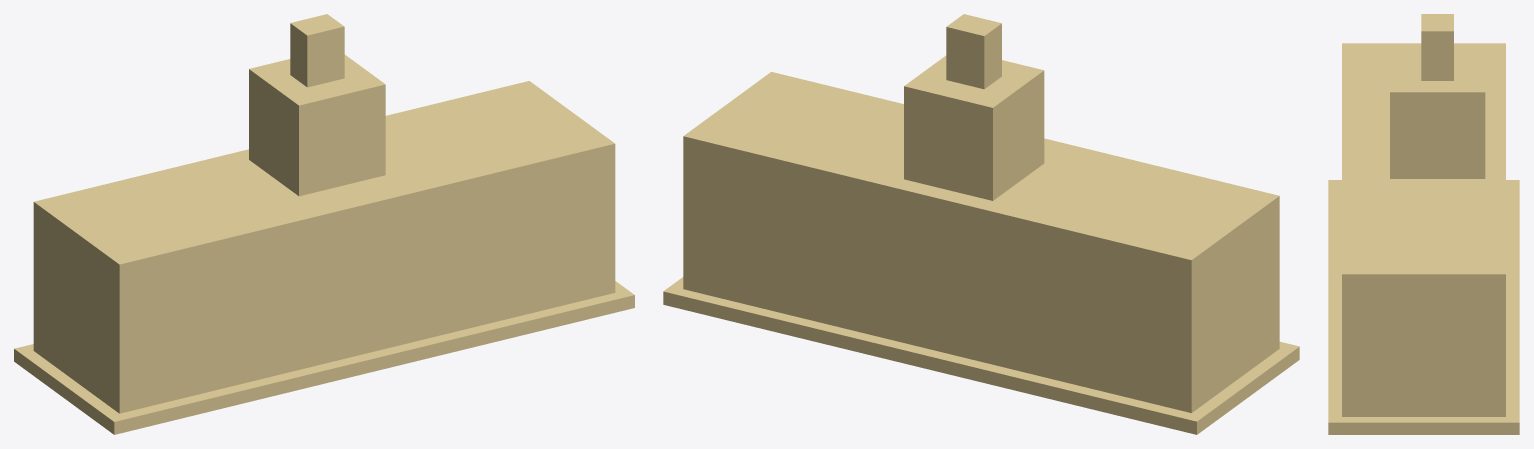
The model's file is sphinx.glb.
3 views of the same model, side by side, from view 1: azimuth 30°, elevation 25°; view 2: azimuth 150°, elevation 25°; view 3: azimuth 270°, elevation 25° (orthographic). The views are drawn at different scales.
Size of the model in its own units: 2.1 by 1.17 by 0.7.
